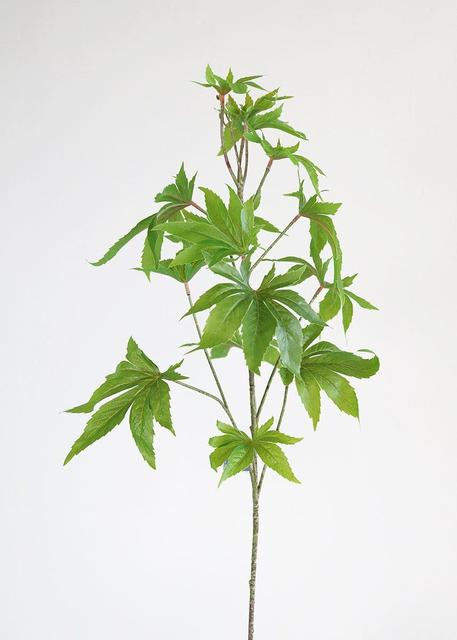Marijuana Bud: (65, 337, 178, 474), (198, 265, 320, 379), (174, 178, 267, 272), (287, 338, 380, 429), (206, 421, 303, 490), (317, 276, 377, 334)
